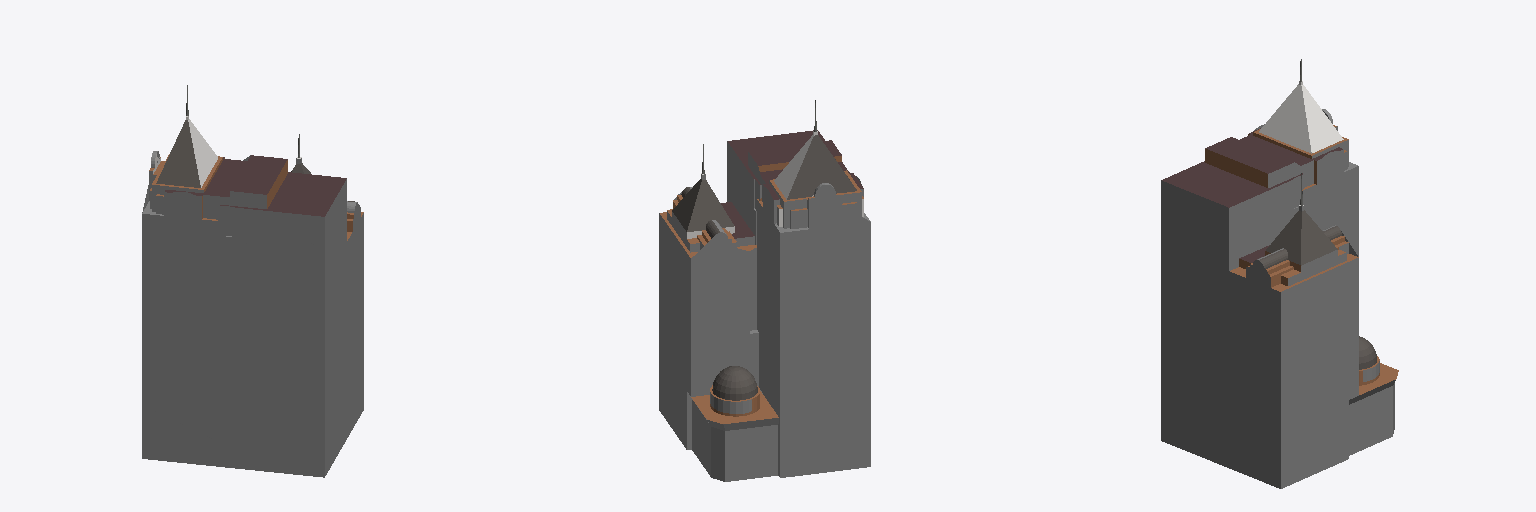
Rendered from Metropolitan.obj.
The picture shows the model from 3 angles: view 1: azimuth 30°, elevation 25°; view 2: azimuth 150°, elevation 25°; view 3: azimuth 270°, elevation 25°; orthographic projection.
Parts seen in each view (by area): view 1: Mesh1 HSBC1 Model; view 2: Mesh1 HSBC1 Model; view 3: Mesh1 HSBC1 Model.
Part boxes in pixels (left/top/right/bottom): Mesh1 HSBC1 Model: left=142, top=85, right=363, bottom=477; Mesh1 HSBC1 Model: left=659, top=100, right=870, bottom=481; Mesh1 HSBC1 Model: left=1161, top=59, right=1398, bottom=488.
Bounding box in the file's own units: 57.77 × 91.97 × 54.87.